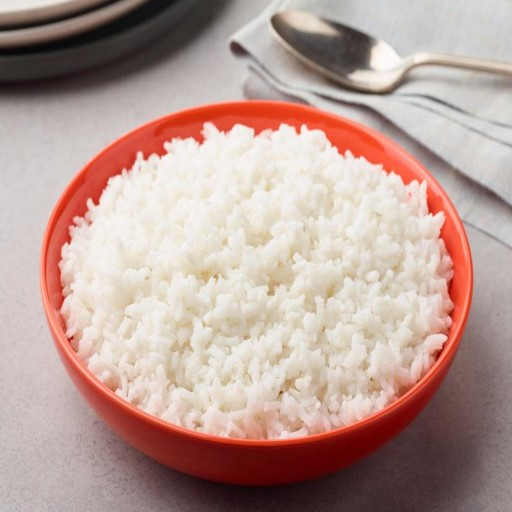rice: (99, 206, 411, 382)
